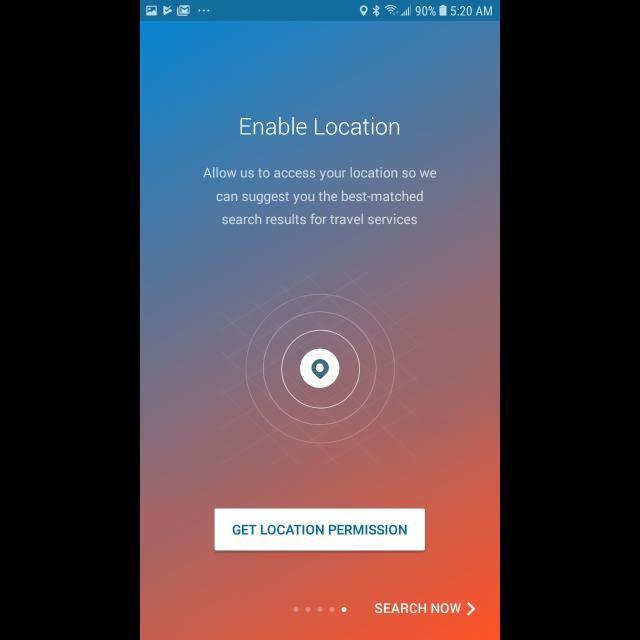icon: (300, 348, 340, 388), (466, 602, 476, 616)
pageindicator: (294, 607, 346, 613)
text: (204, 167, 436, 225), (240, 116, 400, 136), (375, 602, 461, 614)
textbutton: (214, 509, 426, 551)
uppertaskbar: (140, 1, 500, 22)
